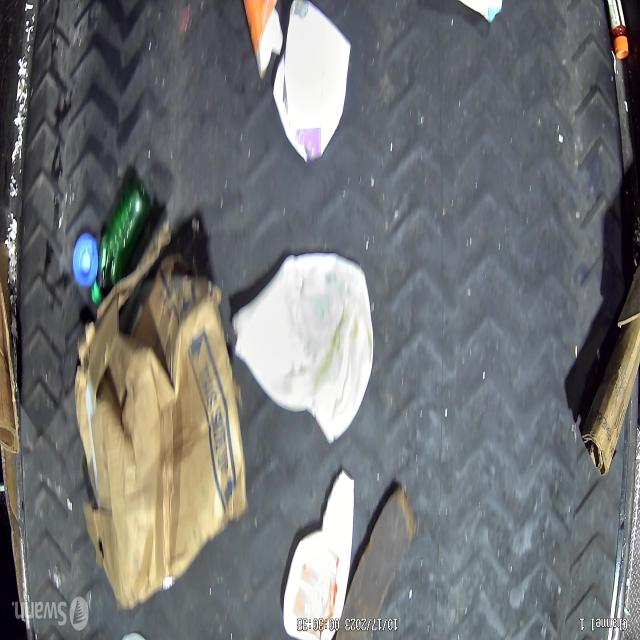milk_jug: (230, 248, 374, 444)
non_white_jug: (284, 469, 355, 640)
